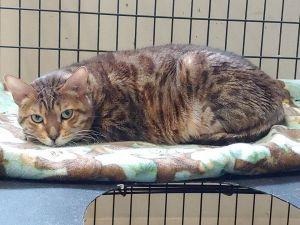bengal: (7, 67, 96, 150)
